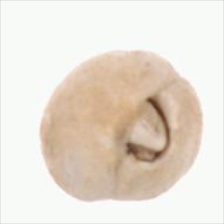L3: (117, 95, 170, 163)
L4: (39, 49, 202, 202)
